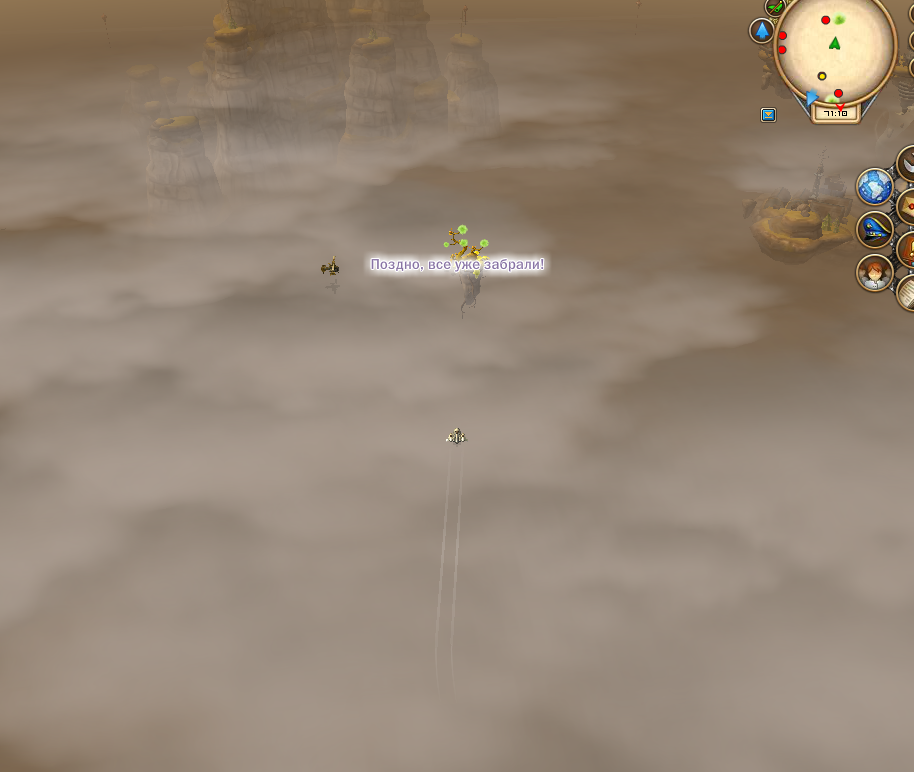dandelion-full: (444, 220, 489, 305)
